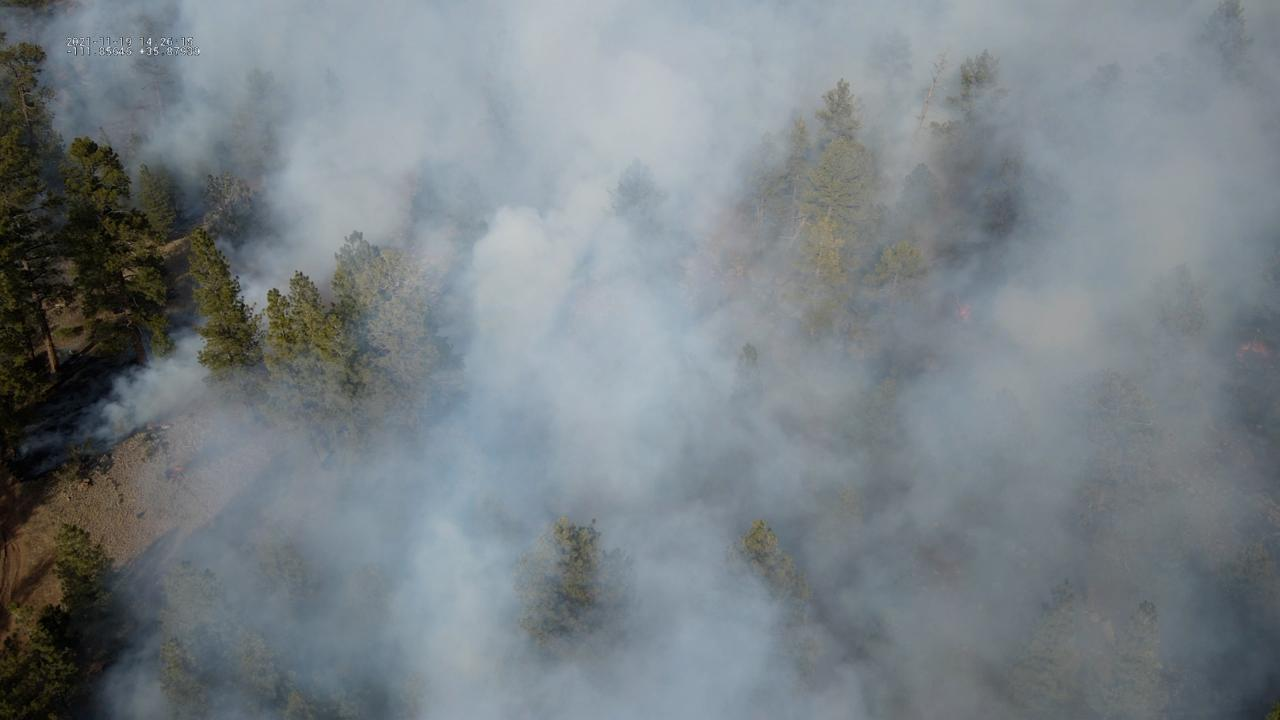fire: (1232, 336, 1268, 361), (959, 304, 972, 321), (173, 466, 185, 473)
smoke: (0, 0, 1280, 720)
